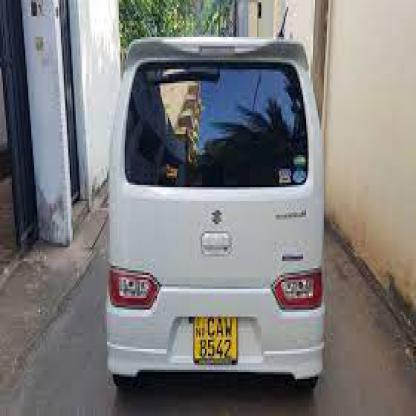car: (101, 35, 330, 395)
